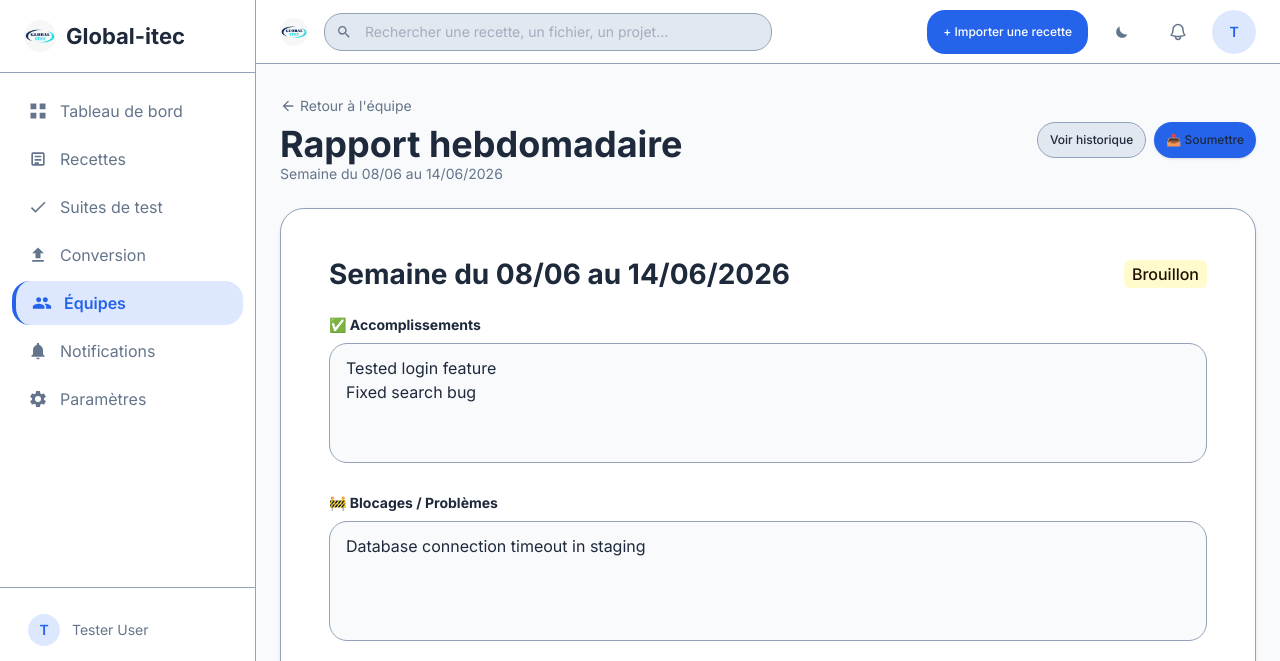
Test: WeeklyReportPage › shows historical reports when toggled
Click the button "Voir historique" at (1092, 140), box [1037,122,1146,158]
(page scrolled)
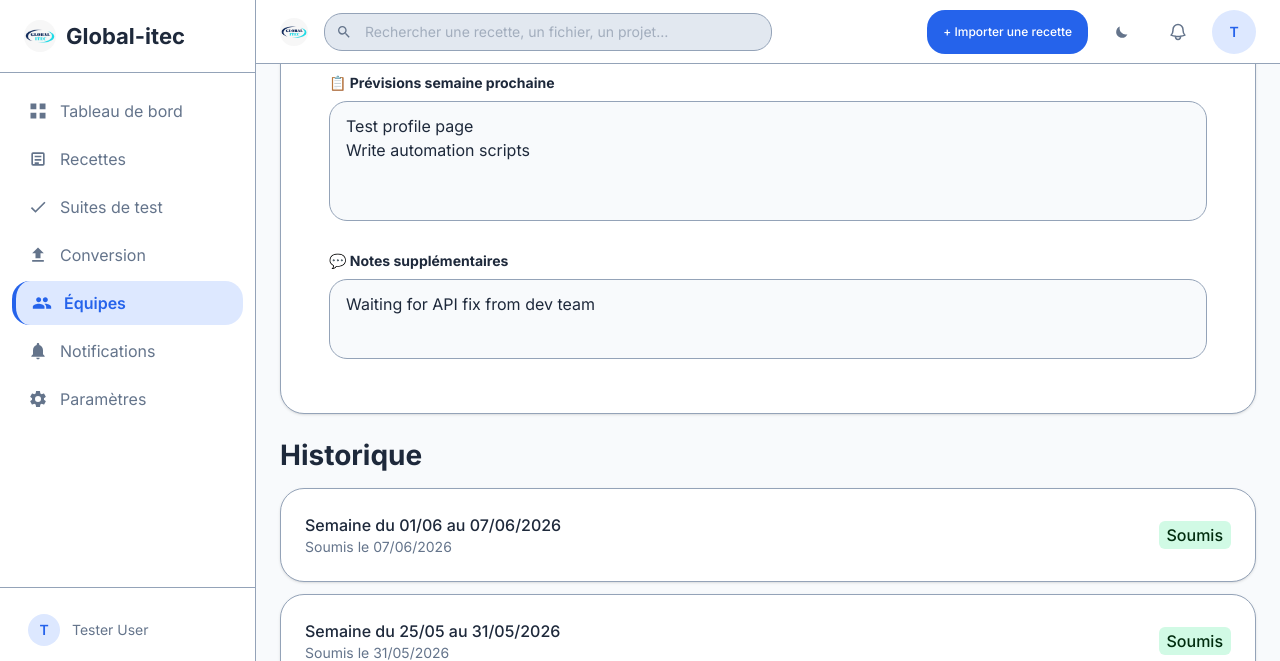
expect the heading "Historique" is shown: met, box [280,438,422,472]
